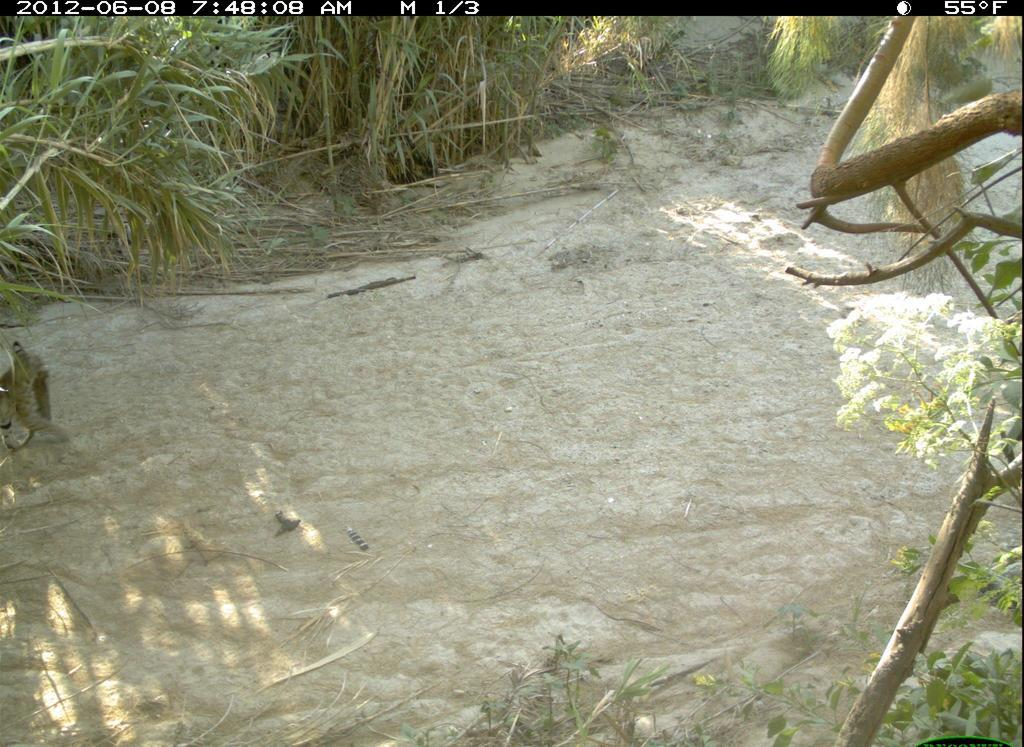bobcat: (1, 336, 72, 458)
